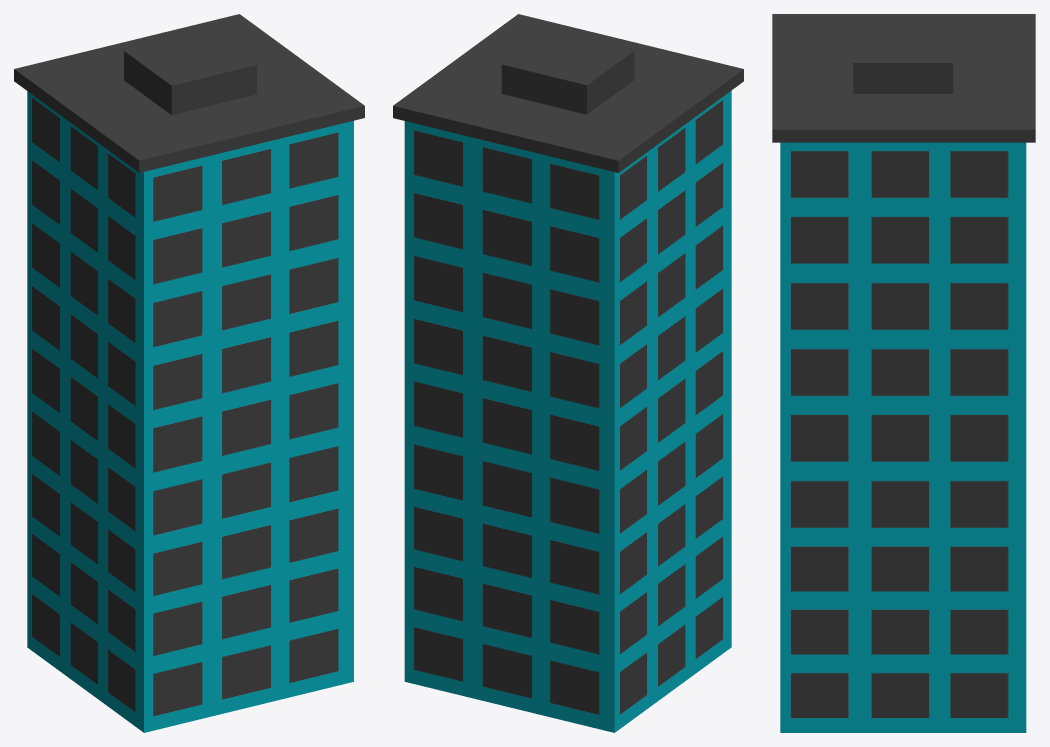
Rendered from Building 04.FBX.
3 views of the same model, side by side, from view 1: azimuth 30°, elevation 25°; view 2: azimuth 150°, elevation 25°; view 3: azimuth 270°, elevation 25° (orthographic). The views are drawn at different scales.
Visible parts, largest first — view 1: Box001; view 2: Box001; view 3: Box001.
Part boxes in pixels (left/top/right/bottom): Box001: left=14, top=14, right=364, bottom=732; Box001: left=393, top=14, right=743, bottom=732; Box001: left=772, top=14, right=1035, bottom=732.
Size of the model in its own units: 50.12 by 129 by 48.24.
